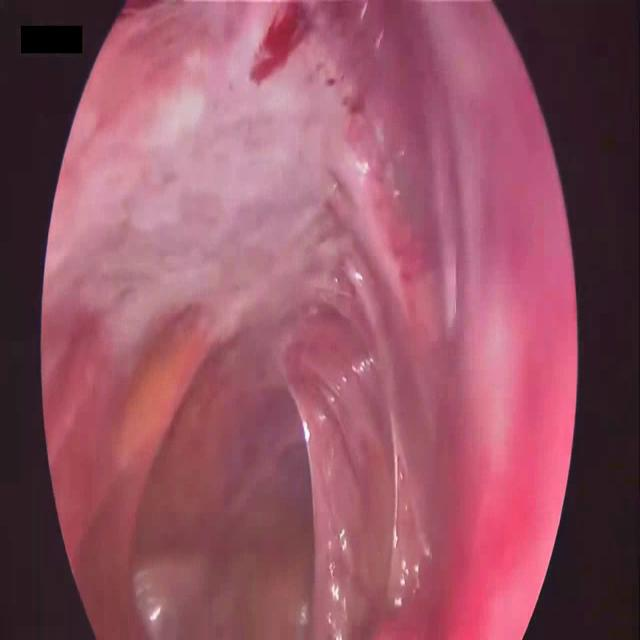surgical-area: (36, 1, 576, 639)
